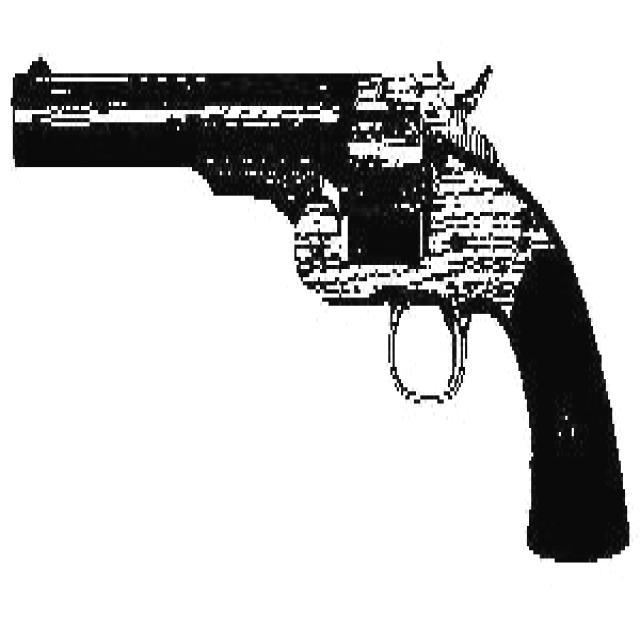pistol: (9, 49, 636, 562)
